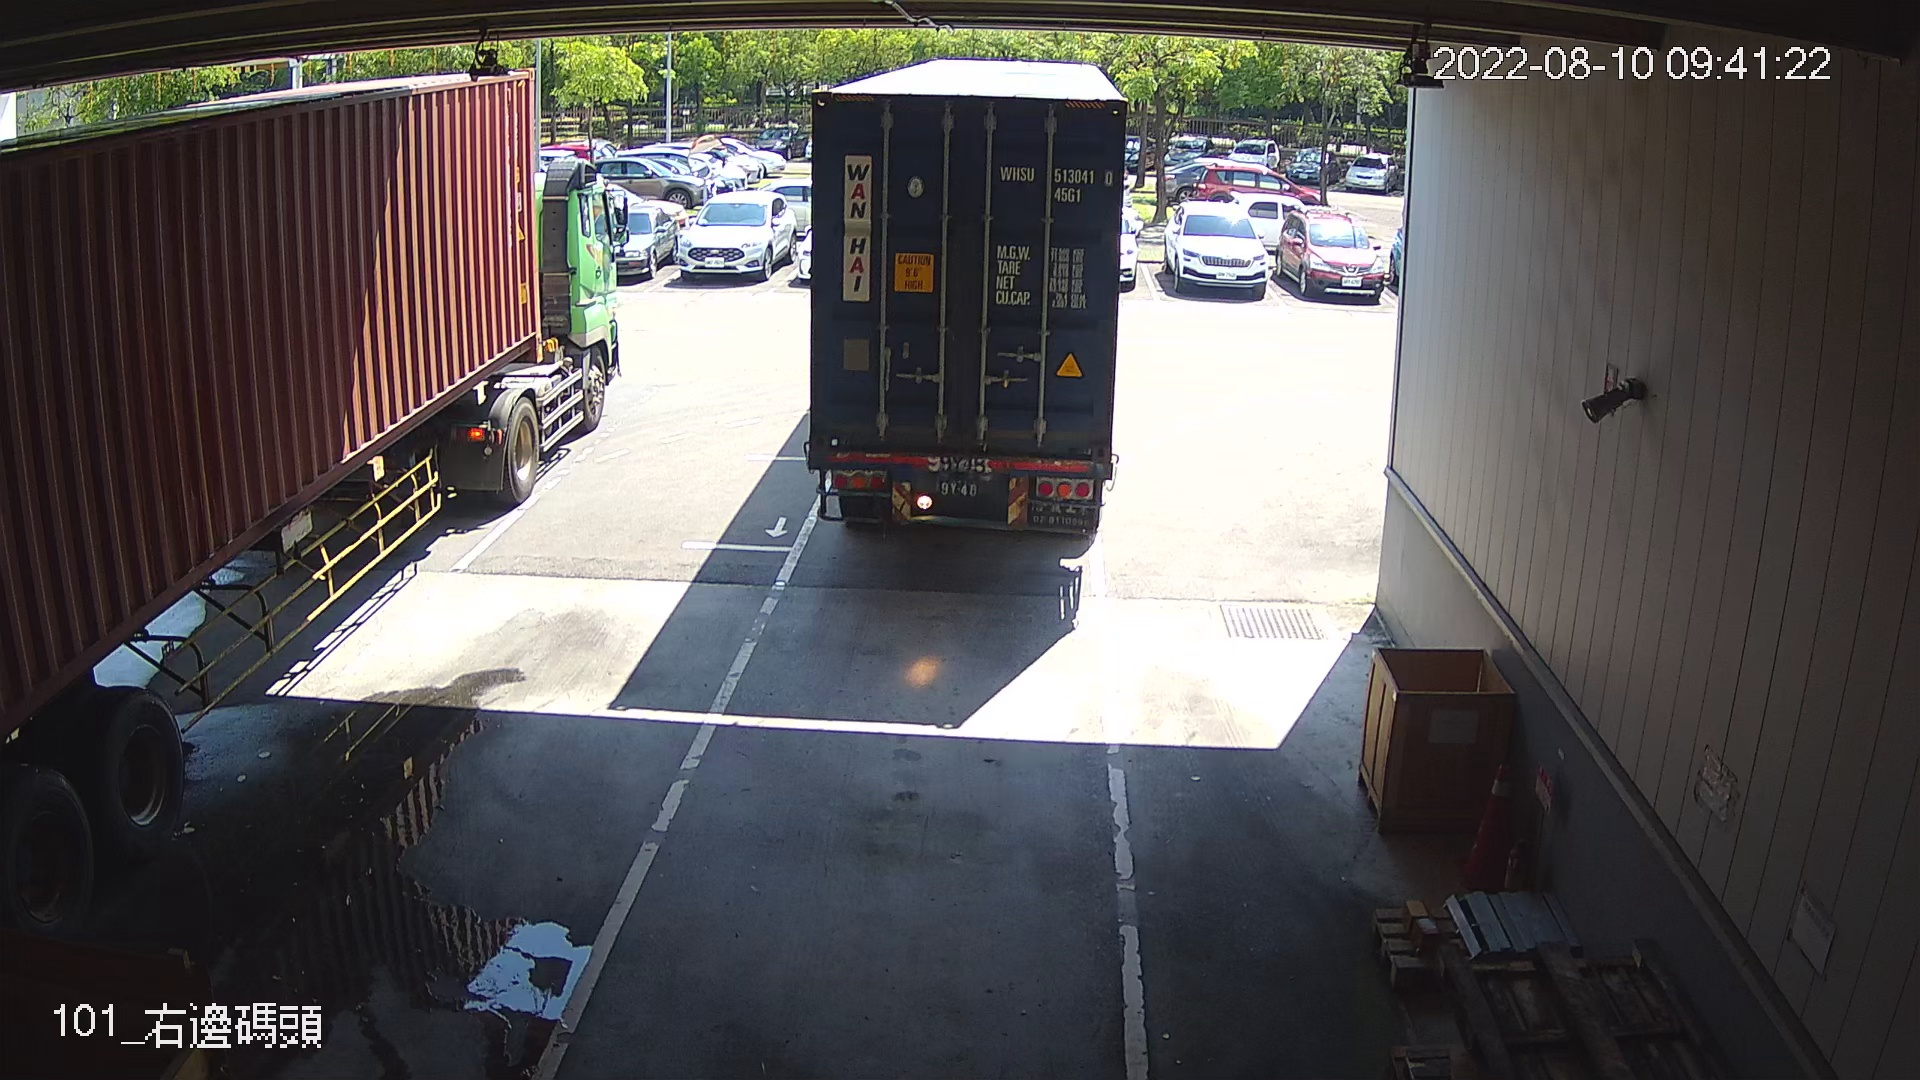container: (994, 154, 1120, 211)
